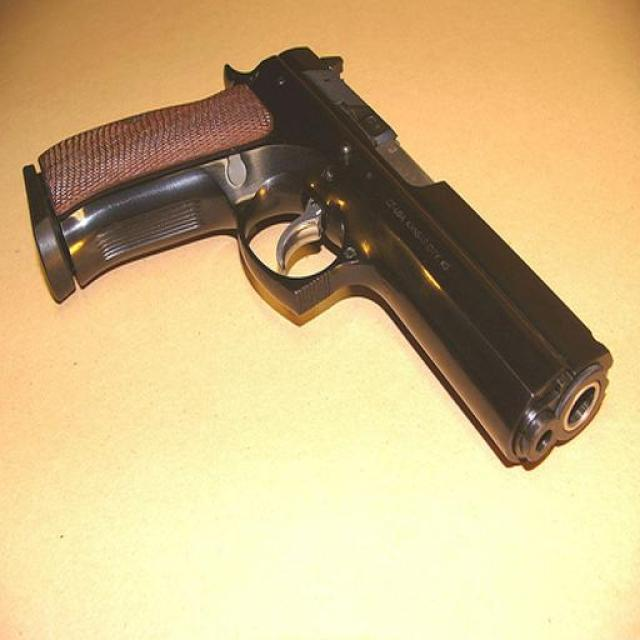pistol: (20, 26, 611, 474)
